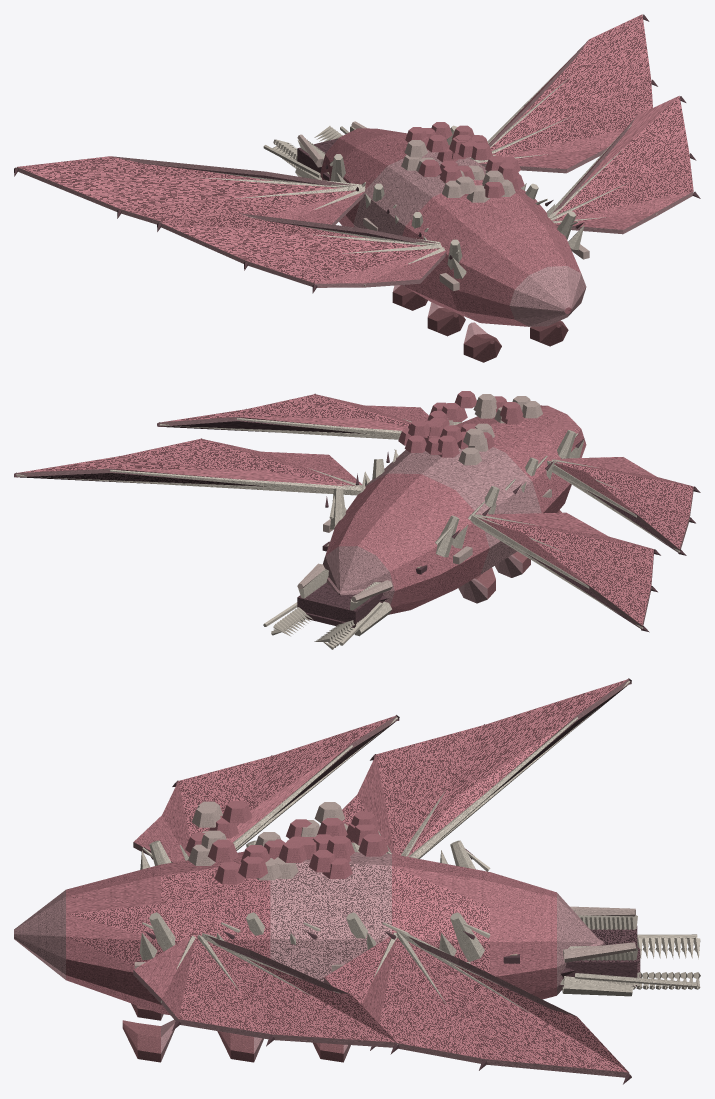
The model's file is begotten_behemoth.glb.
The picture shows the model from 3 angles, top to bottom: view 1: azimuth 30°, elevation 25°; view 2: azimuth 150°, elevation 25°; view 3: azimuth 270°, elevation 25°; orthographic projection. The views are drawn at different scales.
Visible parts, largest first — view 1: begotten_behemoth; view 2: begotten_behemoth; view 3: begotten_behemoth.
Boxes of the visible parts, x1,y1,x2,y2 form: begotten_behemoth: (14,14,700,362); begotten_behemoth: (14,391,700,649); begotten_behemoth: (14,678,700,1084).
Bounding box in the file's own units: 26.4 × 6.61 × 19.17.
Materials: 7 (7 with a texture image).
